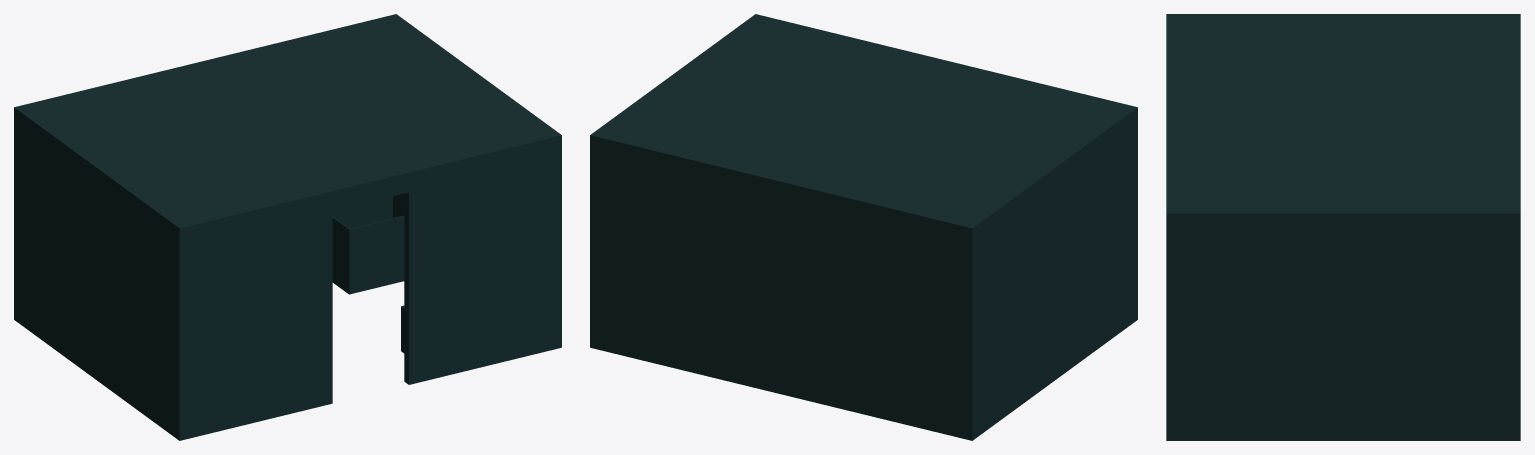
Rendered from oc_bank_harbour_mutual_01_collision.glb.
3 renders of one model, left to right at view 1: azimuth 30°, elevation 25°; view 2: azimuth 150°, elevation 25°; view 3: azimuth 270°, elevation 25°, orthographic. The views are drawn at different scales.
Parts seen in each view (by area): view 1: COL_Roof, COL_WallL, COL_FrontL, COL_FrontR, COL_LoanOffice, COL_WallBack, COL_LoanSide; view 2: COL_WallBack, COL_Roof, COL_WallL, COL_WallR; view 3: COL_Roof, COL_WallR, COL_FrontR, COL_WallBack.
Boxes of the visible parts, left/top/right/bottom form: COL_Roof: left=14, top=14, right=561, bottom=248; COL_WallL: left=14, top=120, right=187, bottom=440; COL_FrontL: left=174, top=203, right=332, bottom=440; COL_FrontR: left=404, top=147, right=561, bottom=384; COL_LoanOffice: left=348, top=215, right=404, bottom=294; COL_WallBack: left=14, top=122, right=392, bottom=322; COL_LoanSide: left=332, top=216, right=349, bottom=293; COL_WallBack: left=590, top=148, right=977, bottom=440; COL_Roof: left=590, top=14, right=1137, bottom=248; COL_WallL: left=964, top=120, right=1137, bottom=440; COL_WallR: left=590, top=148, right=598, bottom=349; COL_Roof: left=1166, top=14, right=1520, bottom=234; COL_WallR: left=1166, top=227, right=1520, bottom=440; COL_FrontR: left=1166, top=227, right=1176, bottom=440; COL_WallBack: left=1510, top=227, right=1520, bottom=440.
Size of the model in its own units: 16 by 8.5 by 12.
